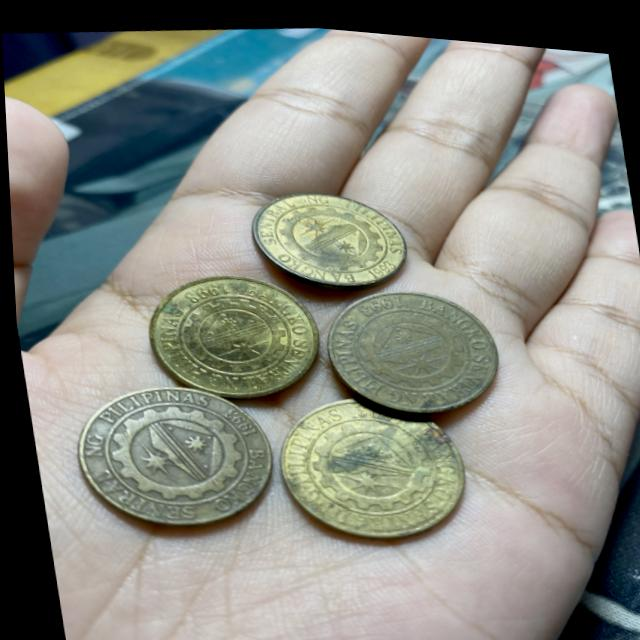25Cent_Old_Back: (62, 376, 269, 532), (272, 386, 453, 545), (136, 259, 309, 403), (320, 272, 491, 407), (250, 174, 399, 294)
